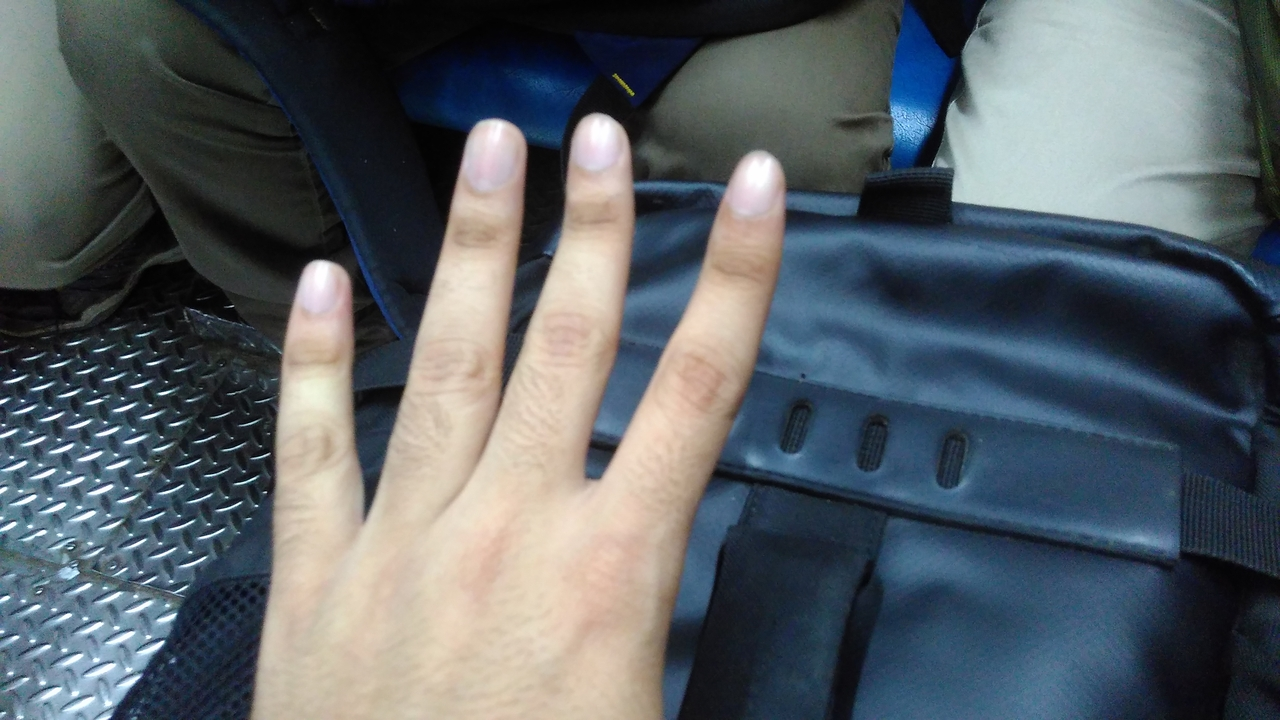fingertip: (716, 146, 796, 216), (450, 118, 528, 188), (560, 108, 634, 180), (282, 254, 348, 326)
